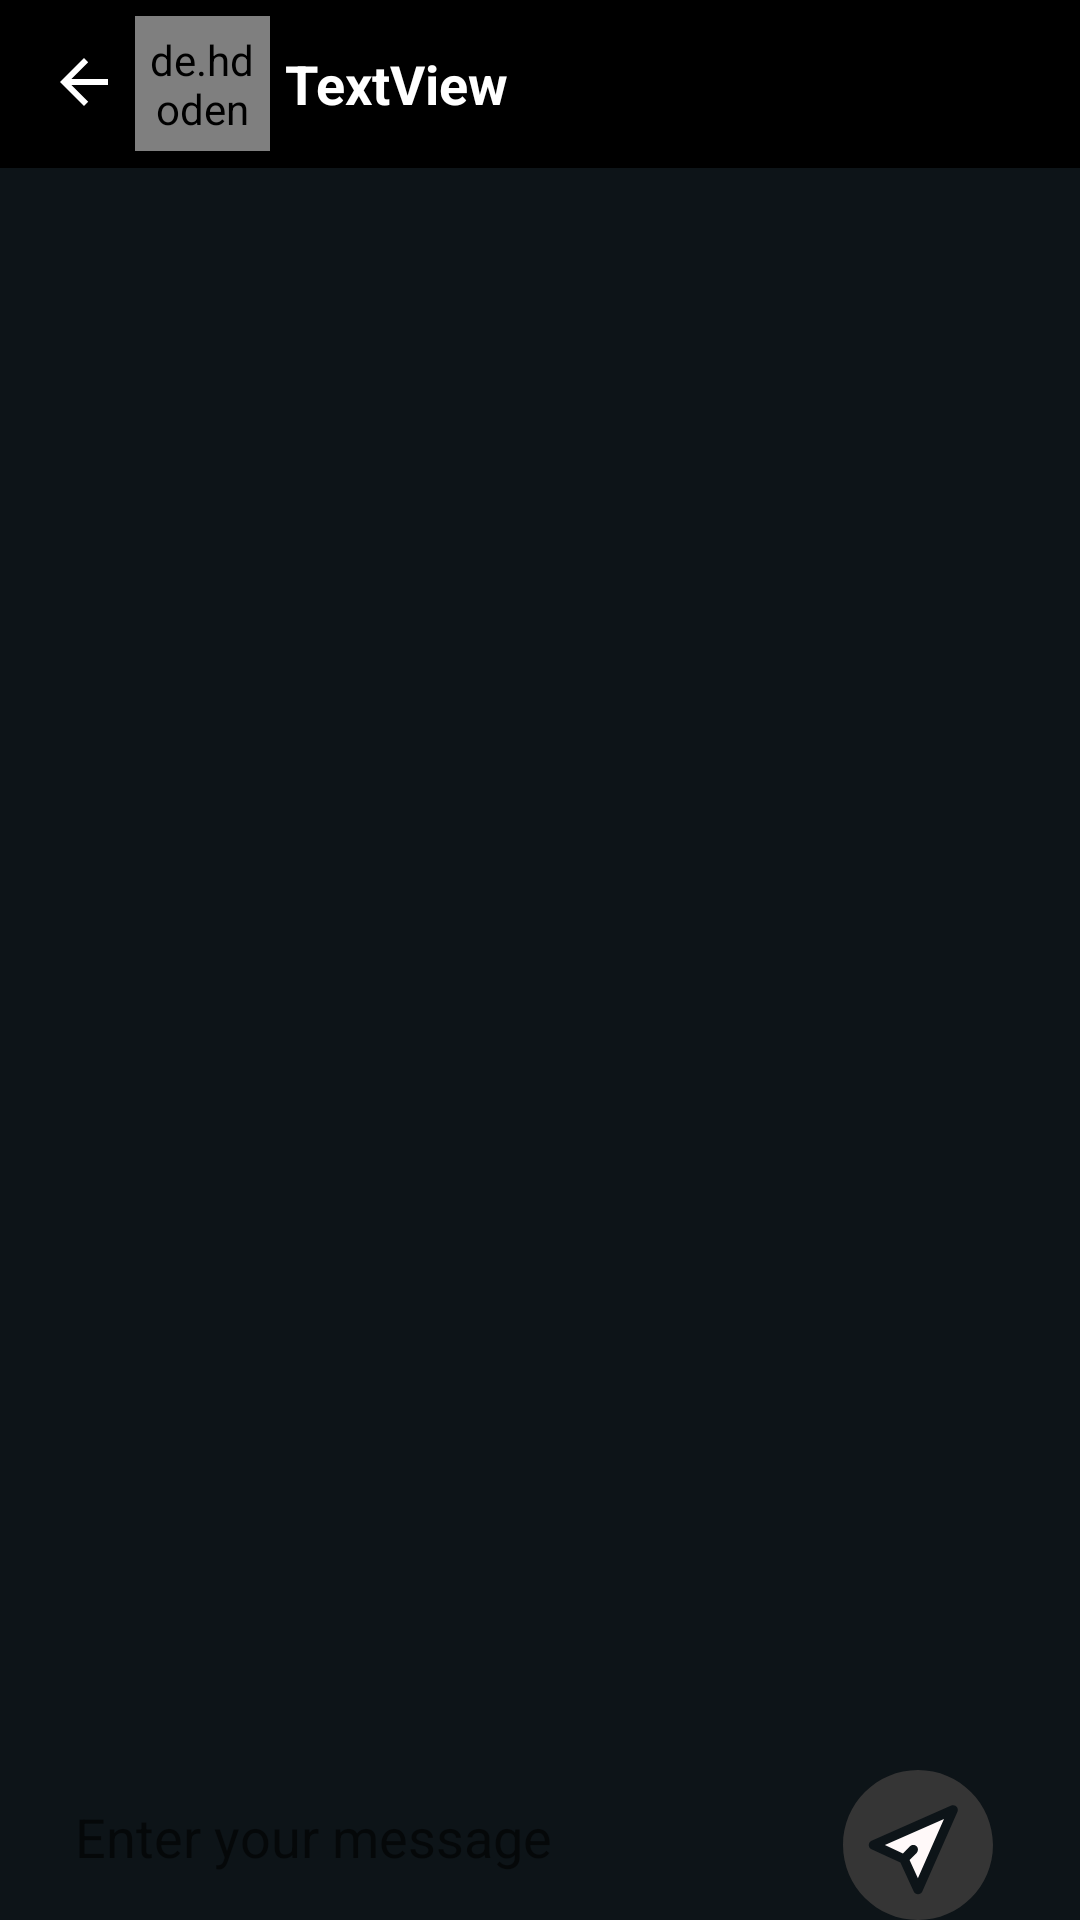

Where to tap for icons on this 1080px x 1920px app screen, as point (x, y):
send: point (918, 1845)
